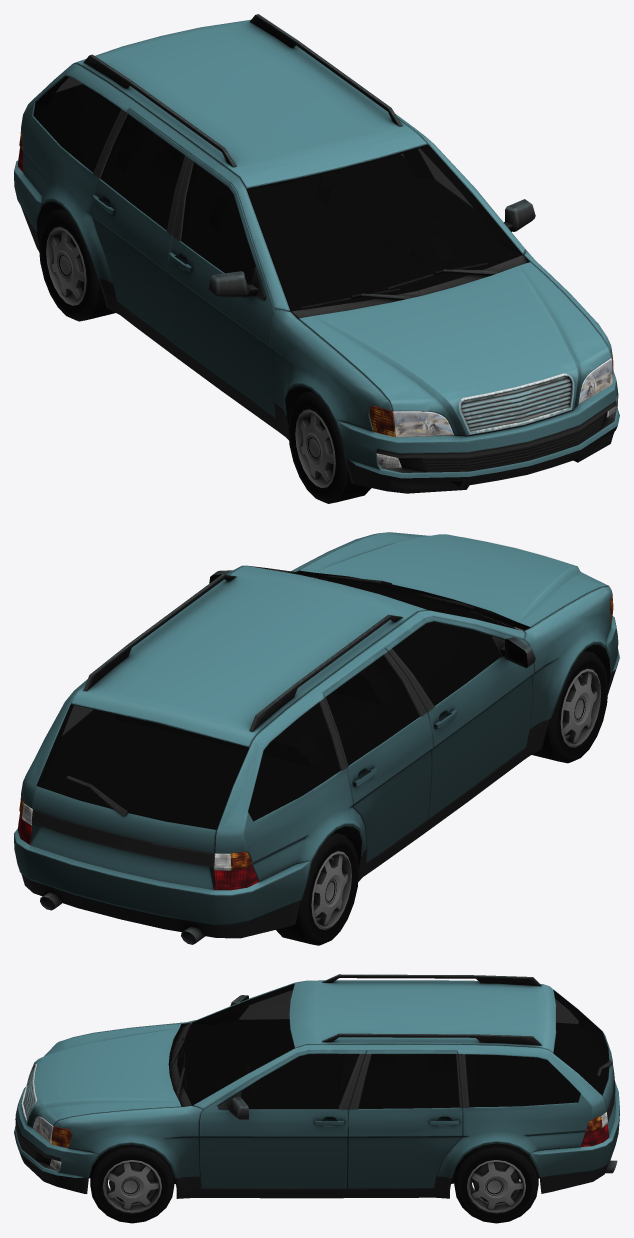
Rendered from wagon.glb.
3 renders of one model, top to bottom at view 1: azimuth 30°, elevation 25°; view 2: azimuth 150°, elevation 25°; view 3: azimuth 270°, elevation 25°, orthographic. The views are drawn at different scales.
Parts seen in each view (by area): view 1: Body, Glass, Tire (×2), Optics; view 2: Body, Glass, Tire (×2), Optics; view 3: Body, Glass, Tire (×2), Optics.
Part boxes in pixels (x1,y1,x2,y2): Body: [14, 14, 619, 493]; Glass: [33, 76, 522, 311]; Tire (×2): [39, 208, 371, 503]; Optics: [18, 131, 617, 468]; Body: [14, 532, 619, 944]; Glass: [36, 565, 522, 829]; Tire (×2): [276, 650, 608, 945]; Optics: [18, 592, 613, 890]; Body: [14, 974, 619, 1198]; Glass: [177, 983, 609, 1109]; Tire (×2): [90, 1143, 538, 1223]; Optics: [32, 1112, 609, 1170].
Size of the model in its own units: 1.95 by 1.38 by 4.38.
4 materials, 3 textured.
